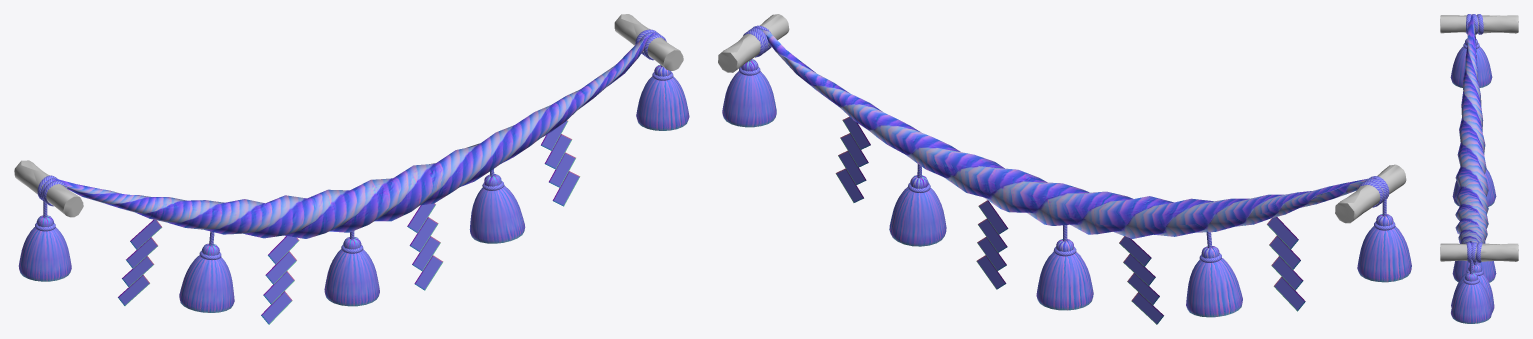
File: SM_EastLands_Rope_01.fbx
The picture shows the model from 3 angles, left to right: view 1: azimuth 30°, elevation 25°; view 2: azimuth 150°, elevation 25°; view 3: azimuth 270°, elevation 25°; orthographic projection. The views are drawn at different scales.
Parts seen in each view (by area): view 1: SM_EastLands_Rope_01_LOD0; view 2: SM_EastLands_Rope_01_LOD0; view 3: SM_EastLands_Rope_01_LOD0.
Part boxes in pixels (x1,y1,x2,y2): SM_EastLands_Rope_01_LOD0: [14, 14, 689, 324]; SM_EastLands_Rope_01_LOD0: [718, 14, 1411, 324]; SM_EastLands_Rope_01_LOD0: [1440, 14, 1518, 323].
Bounding box in the file's own units: 443 × 128 × 58.06.
